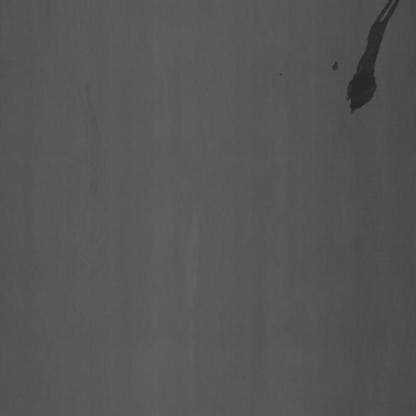oil_spot: (326, 0, 406, 117)
